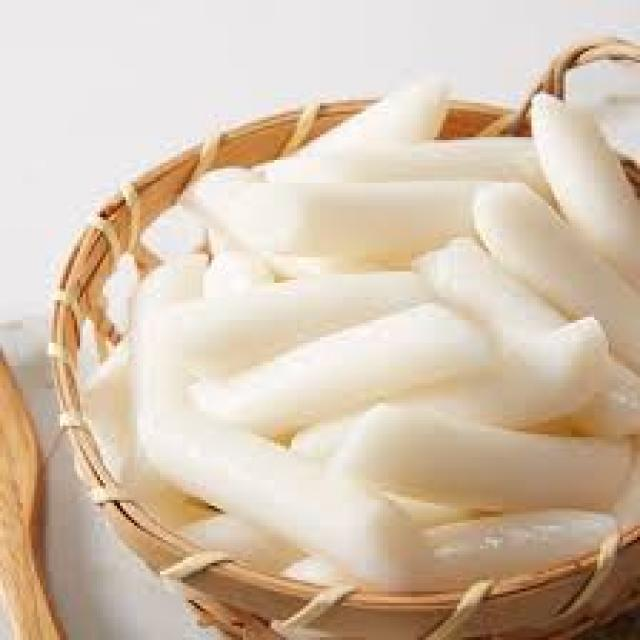rice_cake: (132, 260, 615, 546), (220, 83, 623, 391)
